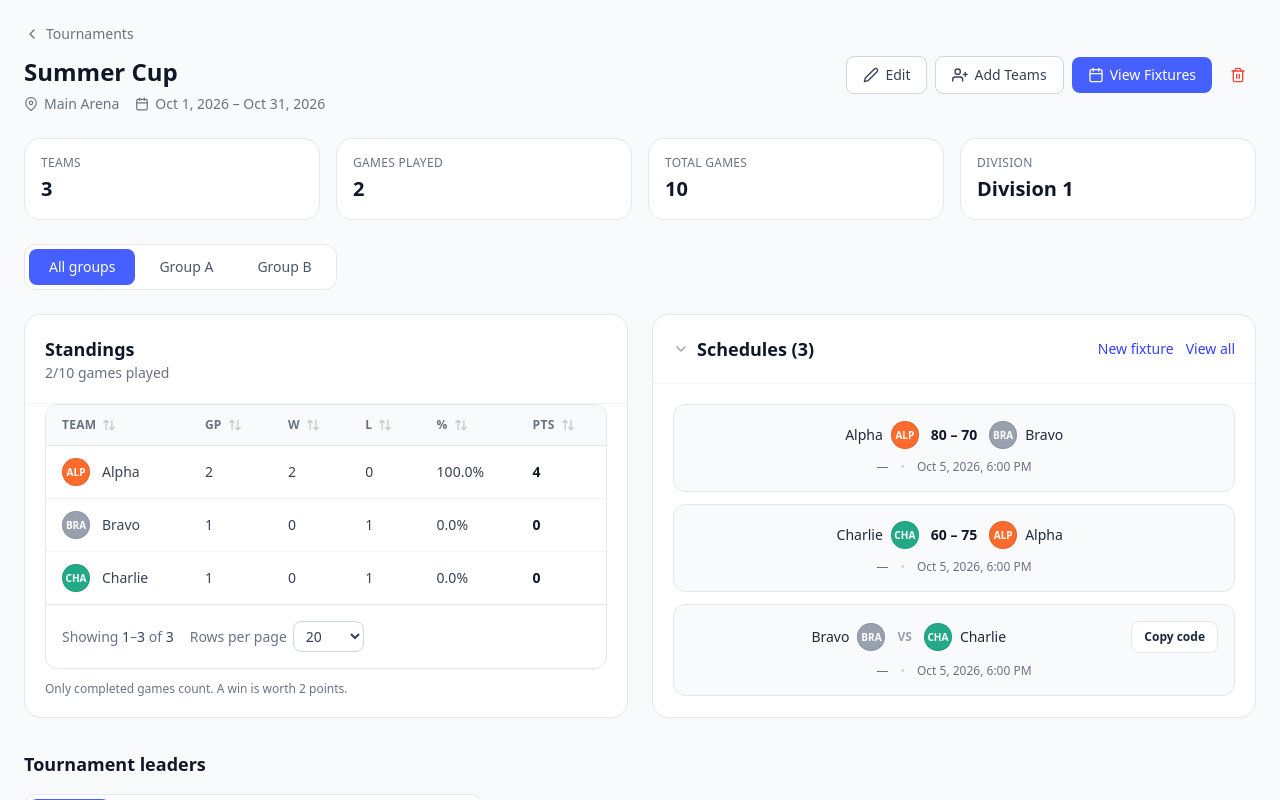
Scenario: Tournament detail: header and quick stats › says what the delete will remove, with the real counts
Click the button named "Delete tournament" at (1238, 75), box [1220,57,1256,93]
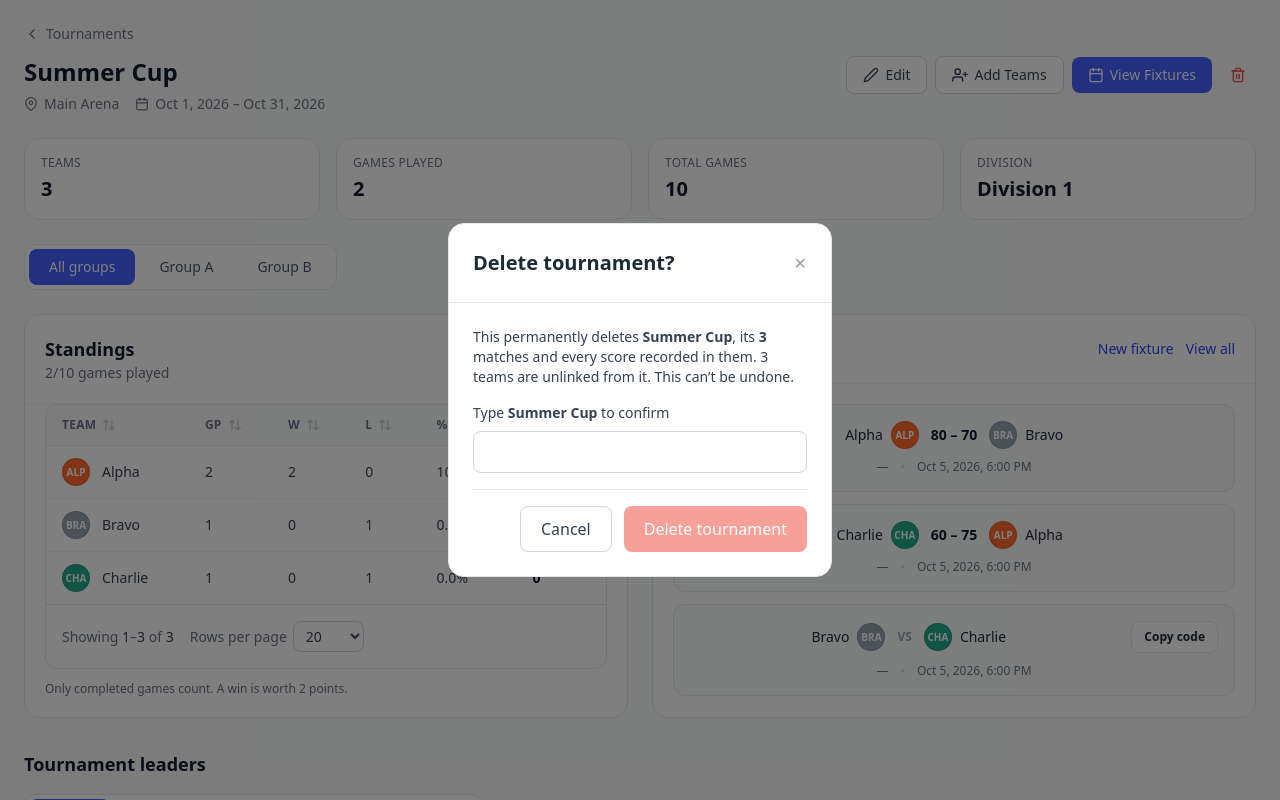
Now the text "3" is shown, box [759,327,767,346]
